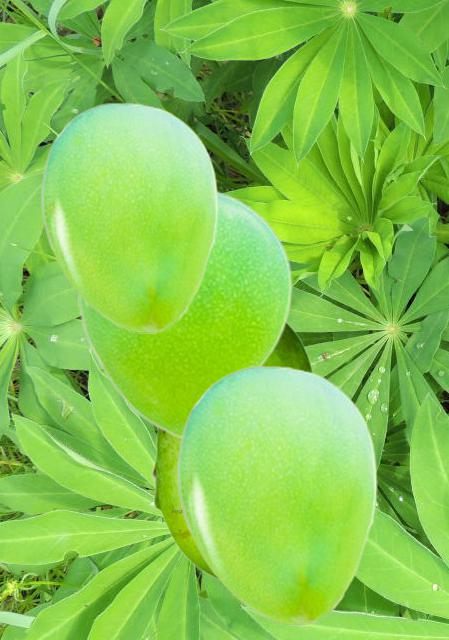green_mango: (78, 188, 291, 438), (176, 365, 376, 624), (151, 322, 314, 579), (40, 102, 217, 332)
